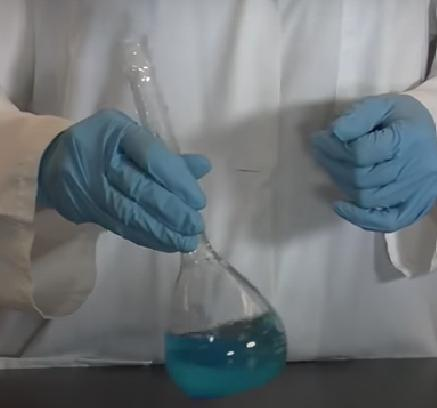Volumetric flask: (111, 17, 296, 396)
